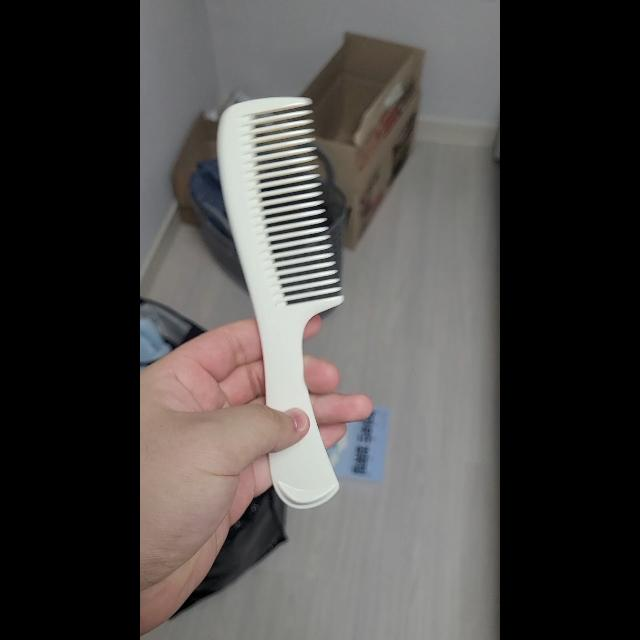COMB: (216, 97, 344, 510)
